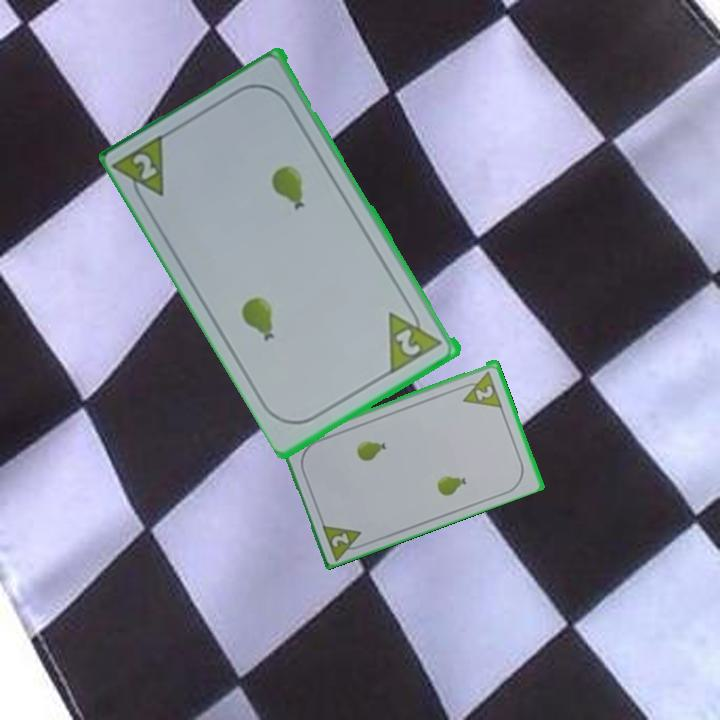2p: (111, 129, 171, 211), (318, 518, 370, 562), (392, 325, 425, 359), (472, 381, 496, 403)
